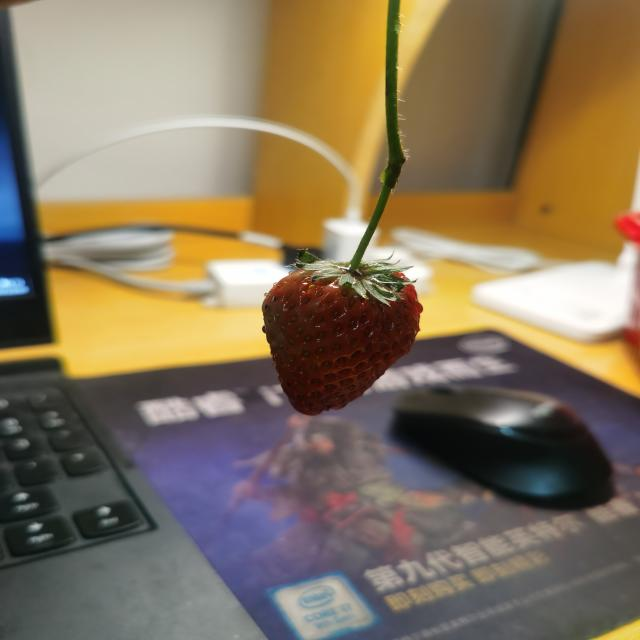stem: (345, 168, 401, 273)
strawberry: (261, 261, 420, 417)
